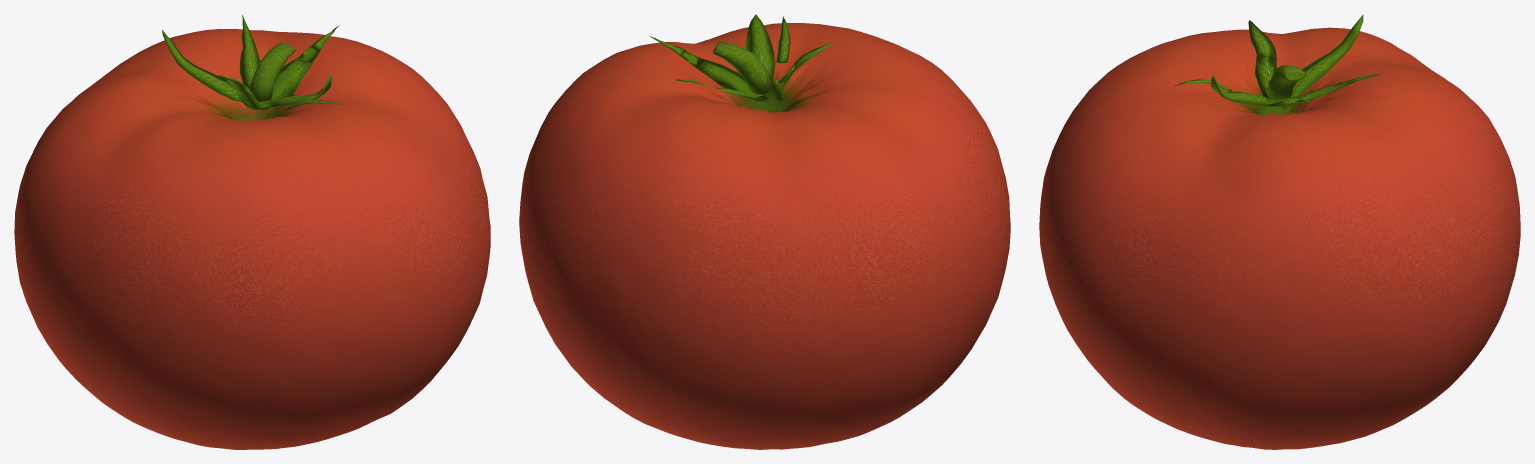
Rendered from tripo_convert_95bef798-c181-478f-970a-2f2f20ffbb60.fbx.
3 renders of one model, left to right at view 1: azimuth 30°, elevation 25°; view 2: azimuth 150°, elevation 25°; view 3: azimuth 270°, elevation 25°, orthographic. The views are drawn at different scales.
Visible parts, largest first — view 1: tripo_node_95bef798; view 2: tripo_node_95bef798; view 3: tripo_node_95bef798.
Boxes of the visible parts, <box> form: tripo_node_95bef798: <box>14,15,490,449</box>; tripo_node_95bef798: <box>519,14,1010,449</box>; tripo_node_95bef798: <box>1039,14,1520,449</box>.
Bounding box in the file's own units: 0.998 × 0.8887 × 0.998.
1 material, 1 textured.
